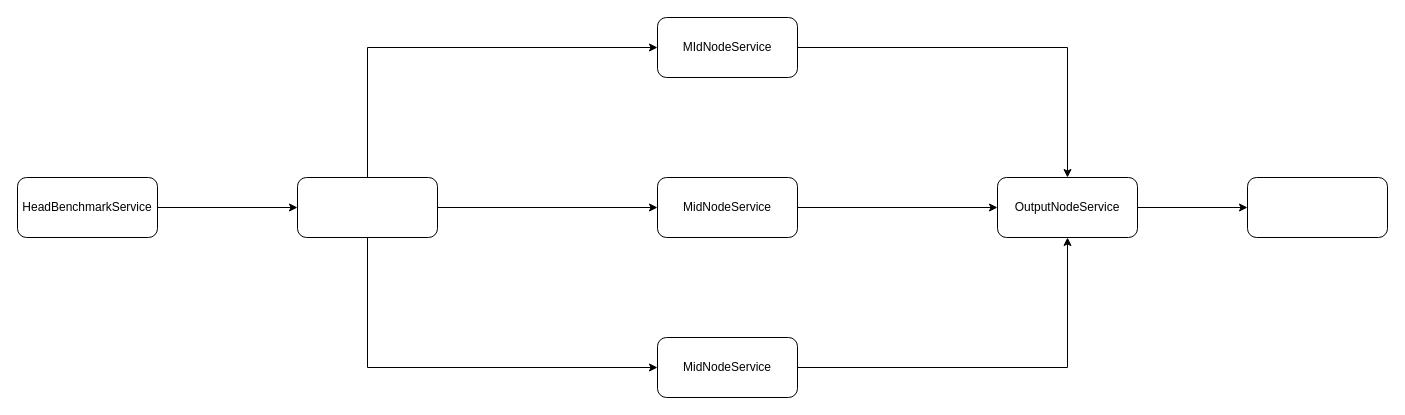
Some shapes in this 1405 by 415 pixel diagram are drawn without their labels. The shapes that lost their labels are listed below. From the top down, each one's box as (x1, y1, x2, y2) in pixels, then its label:
(296, 176, 438, 238): InputNodeService
(1246, 176, 1388, 238): TailBenchmarkService
